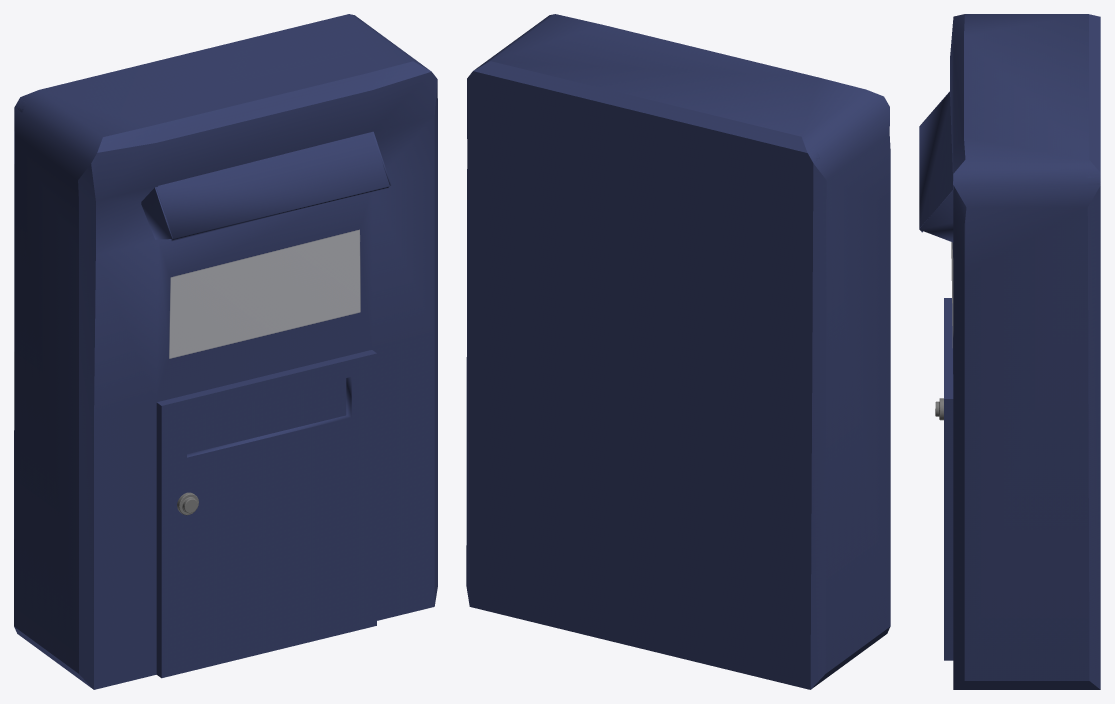
File: Letter Box.fbx
3 views of the same model, side by side, from view 1: azimuth 30°, elevation 25°; view 2: azimuth 150°, elevation 25°; view 3: azimuth 270°, elevation 25° (orthographic). The views are drawn at different scales.
Visible parts, largest first — view 1: Box; view 2: Box; view 3: Box.
Boxes of the visible parts, x1=… form: Box: x1=14, y1=14, x2=437, y2=689; Box: x1=466, y1=14, x2=890, y2=689; Box: x1=919, y1=14, x2=1100, y2=689.
Size of the model in its own units: 10.81 by 15.67 by 4.93.
Materials: 2 (2 with a texture image).
